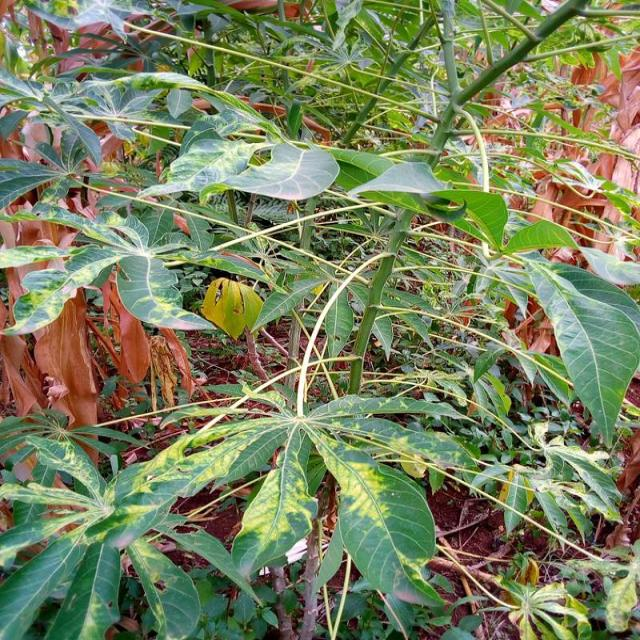cassava leaf: (0, 2, 638, 637), (308, 423, 443, 608), (524, 255, 638, 447), (199, 276, 263, 342)
